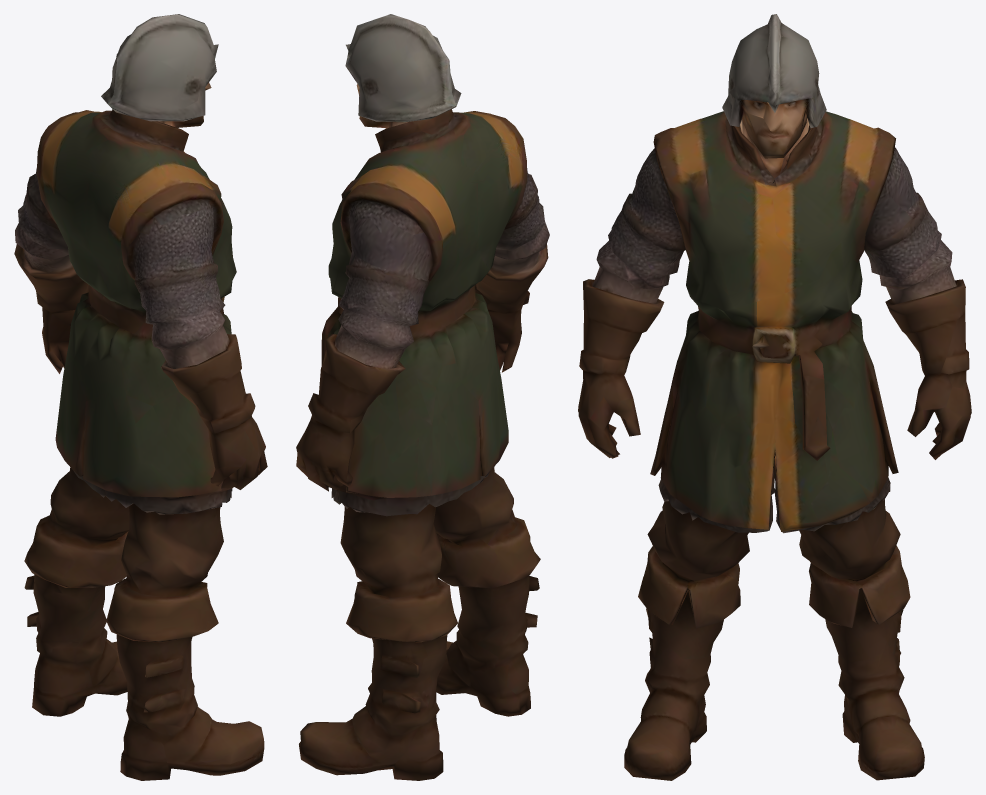
Rendered from model-npc-watchman-01.glb.
The picture shows the model from 3 angles, left to right: view 1: azimuth 30°, elevation 25°; view 2: azimuth 150°, elevation 25°; view 3: azimuth 270°, elevation 25°; orthographic projection. The views are drawn at different scales.
Parts seen in each view (by area): view 1: tripo_node_44df8548-c3f9-4491-a209-6f02c79f2686; view 2: tripo_node_44df8548-c3f9-4491-a209-6f02c79f2686; view 3: tripo_node_44df8548-c3f9-4491-a209-6f02c79f2686.
Boxes of the visible parts, x1=… form: tripo_node_44df8548-c3f9-4491-a209-6f02c79f2686: x1=14, y1=14, x2=267, y2=780; tripo_node_44df8548-c3f9-4491-a209-6f02c79f2686: x1=296, y1=14, x2=549, y2=780; tripo_node_44df8548-c3f9-4491-a209-6f02c79f2686: x1=578, y1=14, x2=971, y2=780.
Size of the model in its own units: 0.4259 by 1.85 by 0.8876.
1 material, 1 textured.
